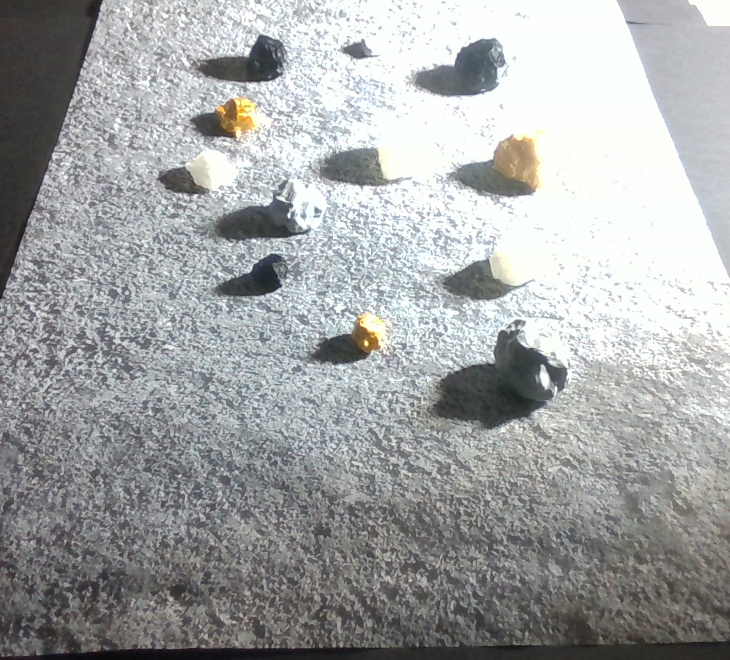anorthosite: (489, 229, 549, 286), (377, 120, 430, 181), (186, 148, 237, 191)
basalt: (454, 38, 508, 96), (246, 34, 287, 83), (251, 254, 287, 288)
metal: (490, 124, 559, 191), (214, 96, 260, 137), (352, 311, 386, 353)
regolith: (495, 319, 572, 401), (269, 179, 323, 234), (361, 32, 389, 58)
